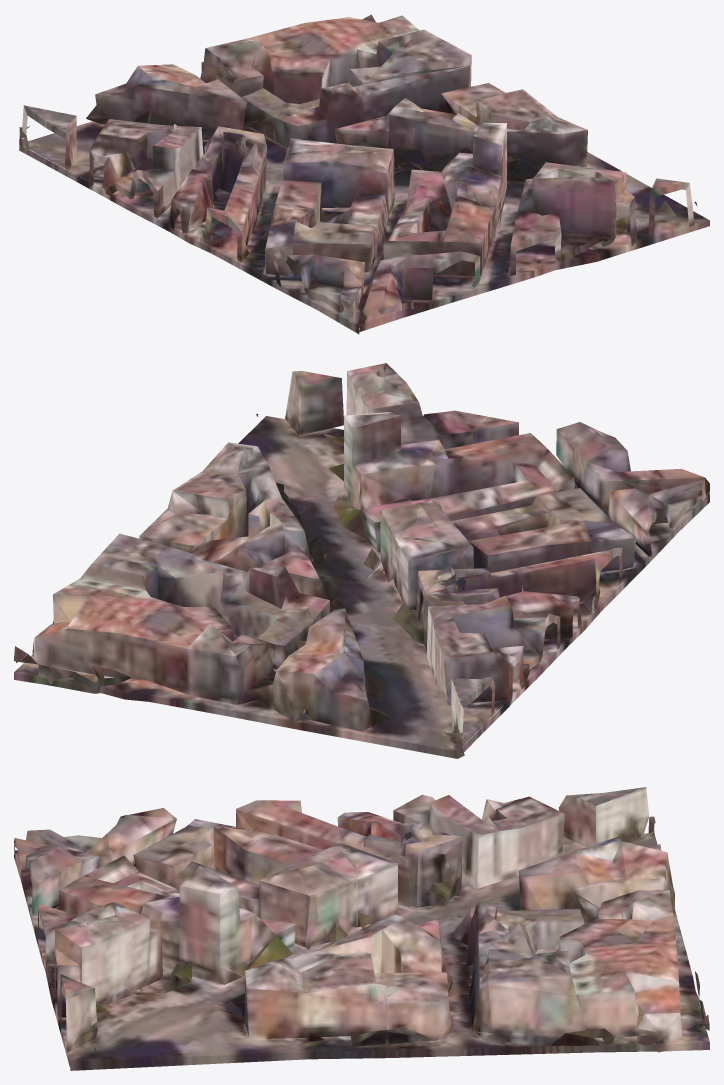
3 renders of one model, top to bottom at view 1: azimuth 30°, elevation 25°; view 2: azimuth 150°, elevation 25°; view 3: azimuth 270°, elevation 25°, orthographic. The views are drawn at different scales.
Visible parts, largest first — view 1: Mesh_0; view 2: Mesh_0; view 3: Mesh_0.
Part boxes in pixels (x1,y1,x2,y2): Mesh_0: (19,14,709,334); Mesh_0: (14,363,709,758); Mesh_0: (14,787,709,1070).
Size of the model in its own units: 270 by 75.17 by 330.
Materials: 1 (1 with a texture image).
